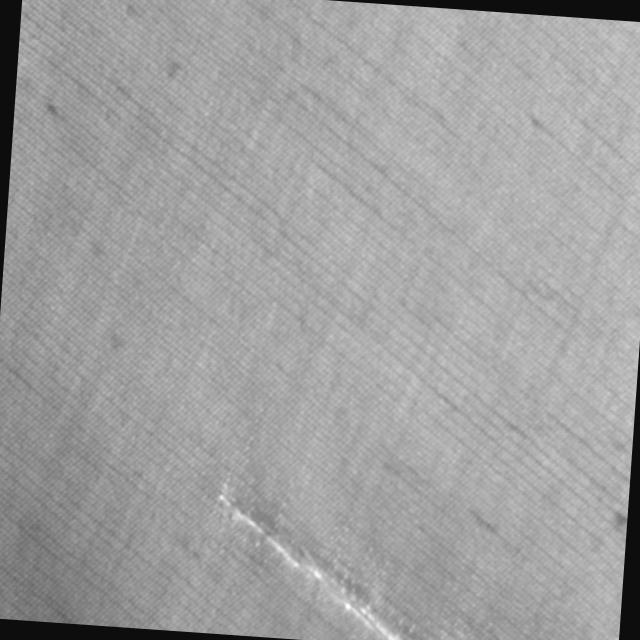hole: (202, 483, 430, 640)
